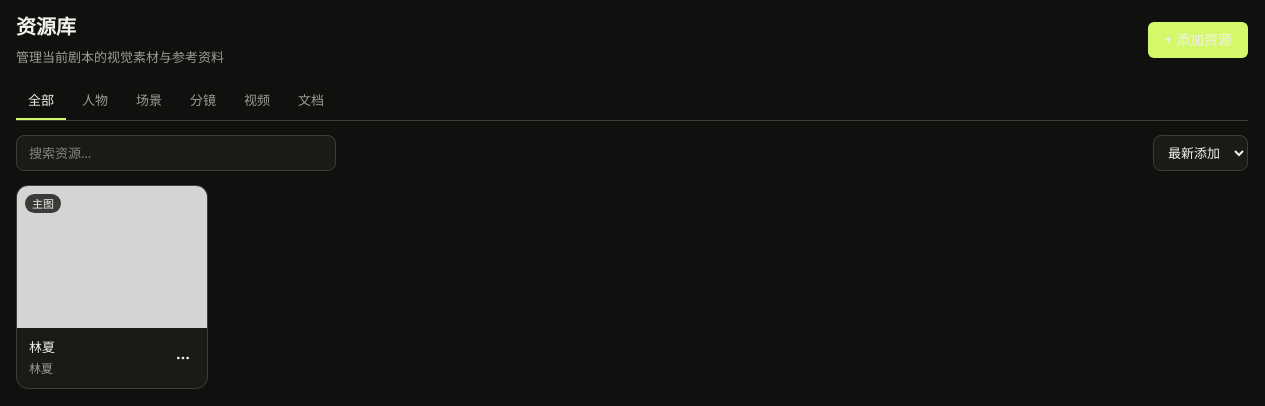
Scenario: shows an honest empty library and a character image without a story copy
Expected: the text "林夏" is shown 2 times, [29, 338, 55, 356]; [29, 360, 53, 376]
Expected: the text "主图" is shown, [25, 194, 61, 212]
Click the tab "分镜" at {"x": 203, "y": 102}, box [178, 84, 228, 120]
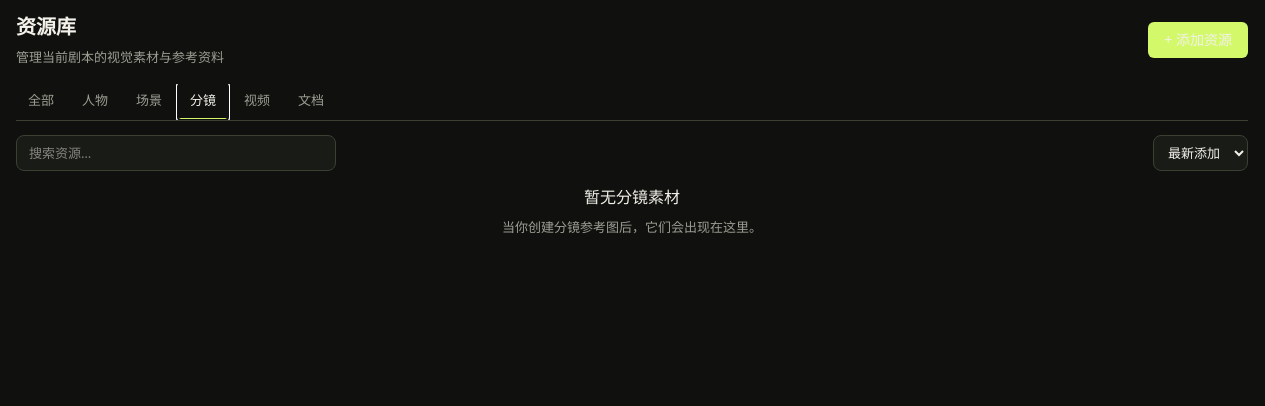
Expected: the heading "暂无分镜素材" is shown, [584, 184, 680, 208]
Expected: the text "当你创建分镜参考图后，它们会出现在这里。" is shown, [502, 216, 762, 237]
